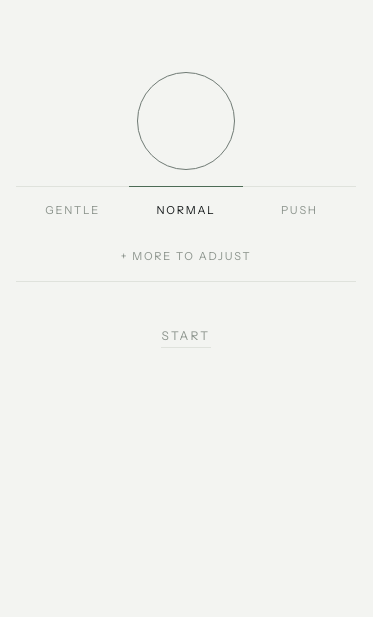
Test case: ConversationView mic control (P2 placement) › lives inside the more-adjust panel, not as its own standalone button
Click the button "+ More to adjust".
click(186, 256)  # box [121,241,251,271]
(page scrolled)
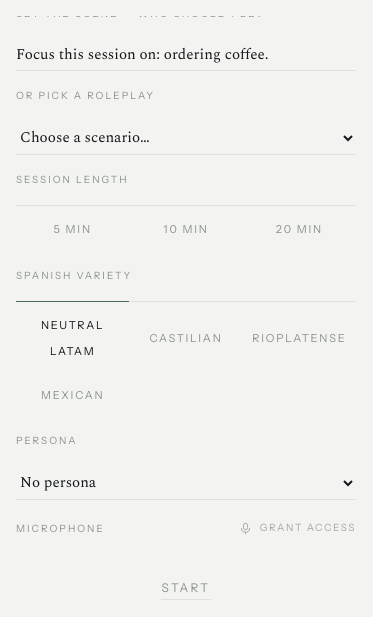
Check: the button "Grant access" is shown, box [239,512,356,546]
